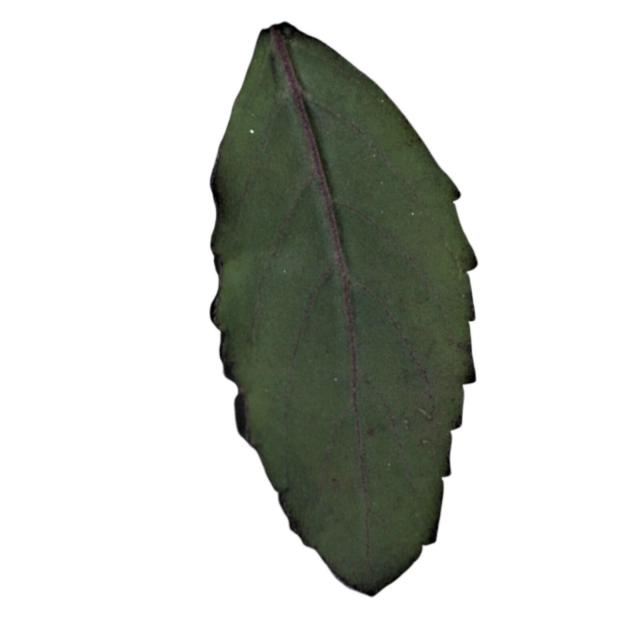tulsi: (208, 22, 482, 600)
